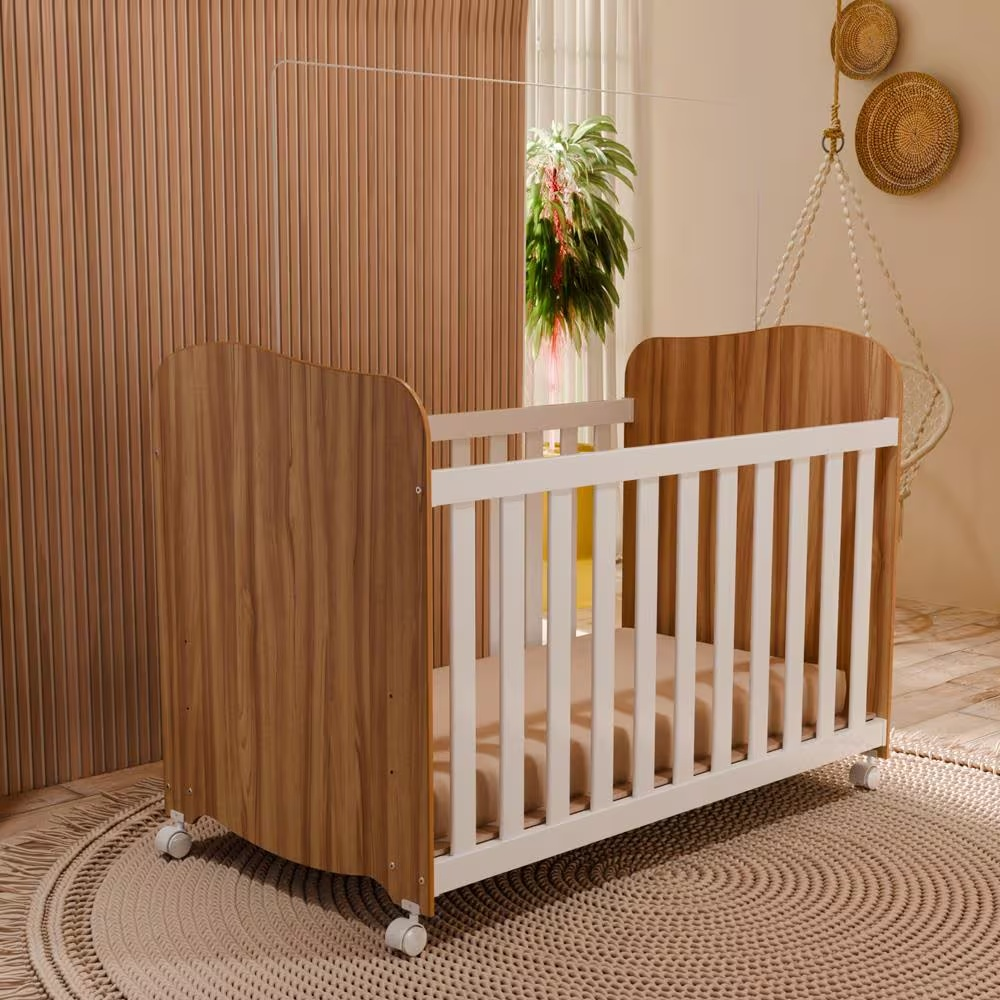crib: (155, 327, 900, 953)
